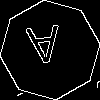A: (25, 25, 64, 75)
